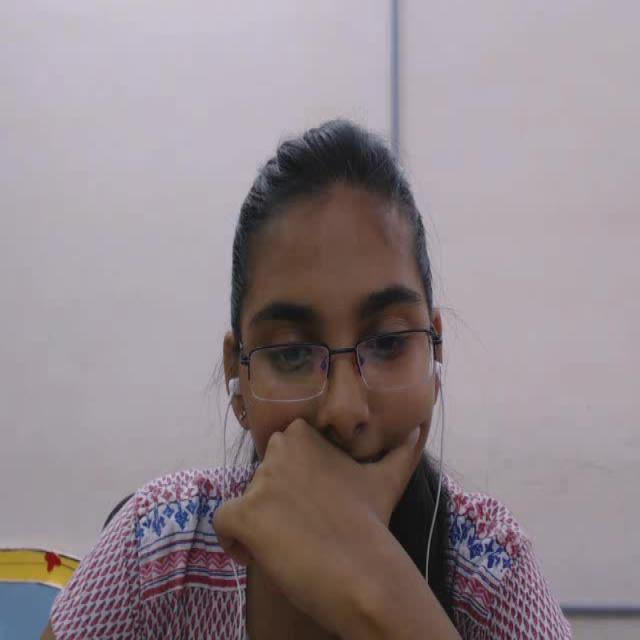Bored: (191, 79, 510, 562)
